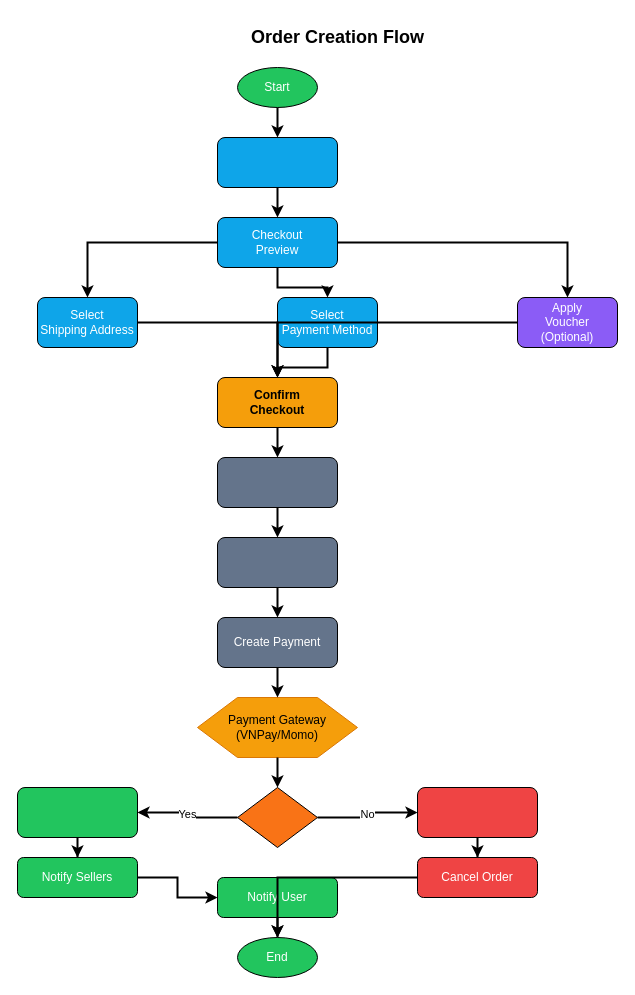
Some shapes in this 635 by 995 pixel diagram are drawn without their labels. The centre of each missing label's shape, as x and y in pixels:
"Add to Cart" belongs at (x=277, y=162).
"Create Order & SellerOrders" belongs at (x=277, y=562).
"Grant Book Access (Digital)" belongs at (x=77, y=812).
"Payment Success?" belongs at (x=277, y=817).
"Release Stock" belongs at (x=477, y=812).
"Validate Cart & Reserve Stock" belongs at (x=277, y=482).
